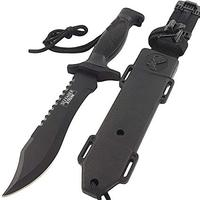knife: (2, 14, 128, 198)
